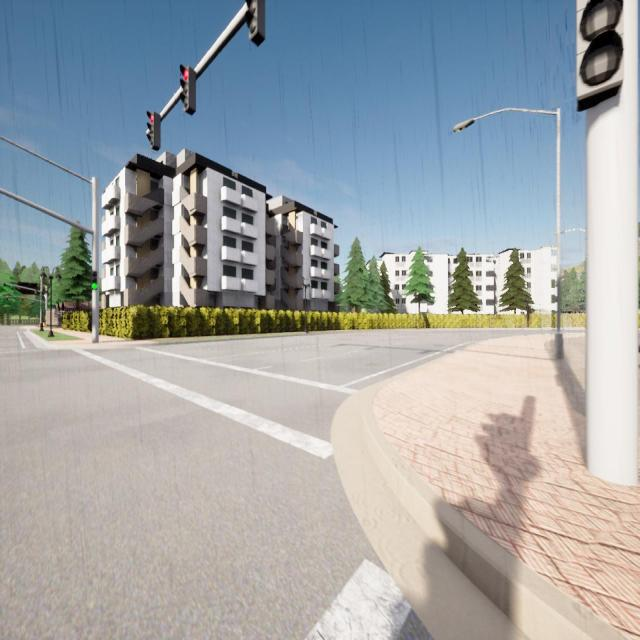traffic_light: (576, 0, 622, 110), (246, 0, 265, 47), (180, 64, 196, 116), (146, 111, 160, 151), (91, 271, 98, 290), (3, 282, 6, 290), (6, 296, 8, 301), (22, 297, 24, 301)
